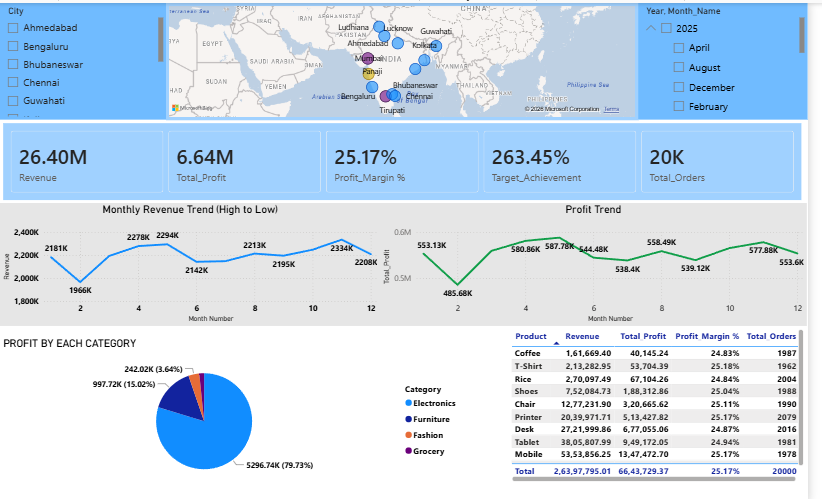

This screenshot's page, from the dashboard's own definition file:
{"tool":"powerbi","page":{"name":"Page 1","canvas":[1280,793],"ordinal":0},"visuals":[{"type":"cardVisual","fields":{"Data":["Sales.Revenue","Sales.Total_Profit","Sales.Profit_Margin %","Sales.Target_Achievement","Sales.Total_Orders"]},"box":[0,184.8,1280,132.7],"z":0},{"type":"lineChart","title":"Monthly Revenue Trend (High to Low)","fields":{"Y":["Sales.Revenue"],"Category":["Calendar.Month Number"]},"box":[0,317.5,603,194.9],"z":1000},{"type":"lineChart","title":"Profit Trend","fields":{"Y":["Sales.Total_Profit"],"Category":["Calendar.Month Number"]},"box":[603,317.5,677,194.9],"z":2000},{"type":"pieChart","title":"PROFIT BY EACH CATEGORY","fields":{"Y":["Sales.Total_Profit"],"Category":["Sales.Category"]},"box":[0,529.1,737.4,235.2],"z":3000},{"type":"tableEx","fields":{"Values":["Sales.Product","Sales.Revenue","Sales.Total_Profit","Sales.Profit_Margin %","Sales.Total_Orders"]},"box":[806.3,512.3,473.7,252],"z":4000},{"type":"slicer","fields":{"Values":["Calendar.Year","Calendar.Month_Name"]},"box":[1011.2,0,268.8,184.8],"z":5000},{"type":"slicer","fields":{"Values":["Sales.City"]},"box":[0,0,263.7,184.8],"z":6000},{"type":"map","fields":{"Size":["Sales.Revenue"],"Category":["Sales.City"]},"box":[263.3,0,748.6,185.6],"z":7000}]}

Visuals, with their boxes in screenshot pixels (x1, y1, x2, y2), scaled from the page's 1280x793 canvas onto the 822x499 screenshot:
cardVisual - Sales.Revenue x Sales.Total_Profit: [0,116,821,200]
"Monthly Revenue Trend (High to Low)" lineChart: [0,200,387,322]
"Profit Trend" lineChart: [387,200,821,322]
"PROFIT BY EACH CATEGORY" pieChart: [0,333,474,481]
tableEx - Sales.Product x Sales.Revenue: [518,322,821,481]
slicer - Calendar.Year x Calendar.Month_Name: [649,0,821,116]
slicer - Sales.City: [0,0,169,116]
map - Sales.Revenue x Sales.City: [169,0,650,117]
